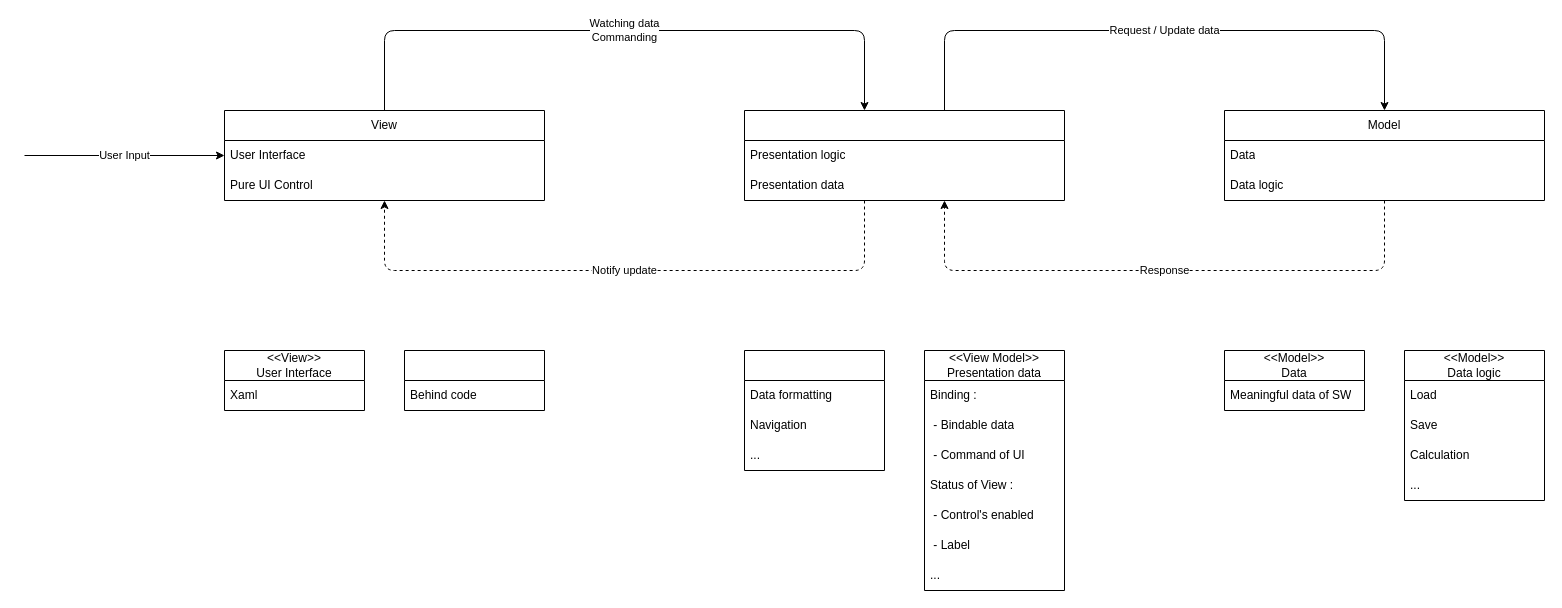
This 1562x608 diagram has some shape labels left out. The box of each missing label's shape, as (x1, y1, x2, y2) in pixels:
<<View Model>> Presentation logic: (744, 350, 884, 470)
<<View>> Pure UI Control: (404, 350, 544, 410)
View Model: (744, 110, 1064, 200)
